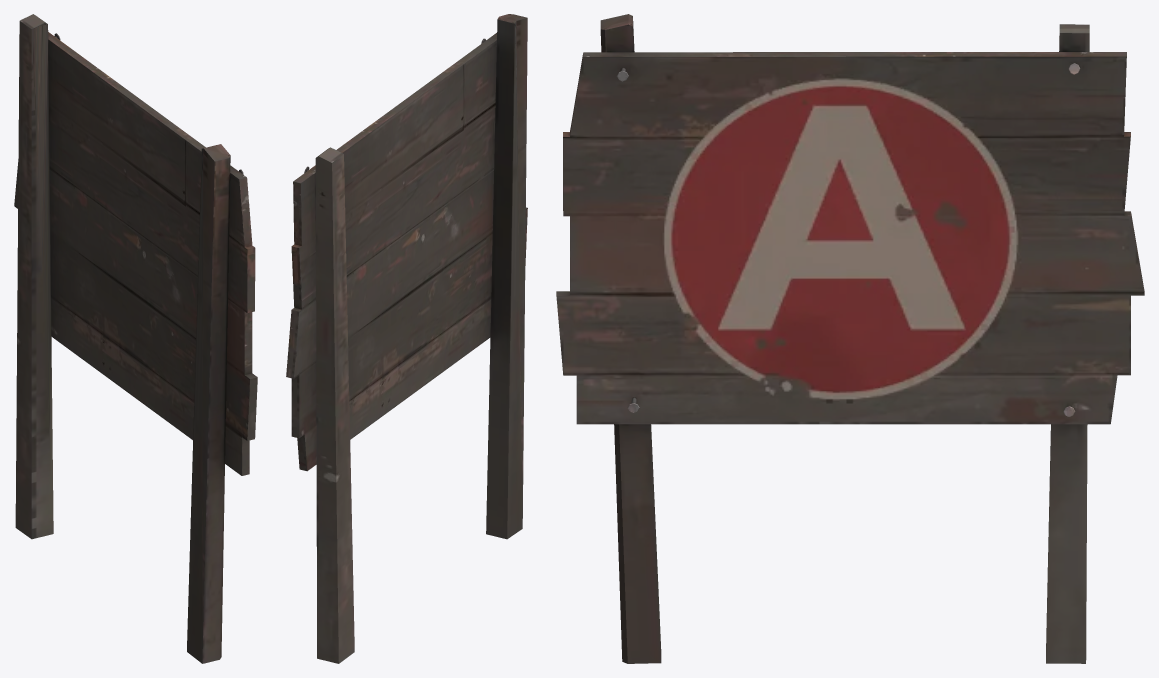
3 views of the same model, side by side, from view 1: azimuth 30°, elevation 25°; view 2: azimuth 150°, elevation 25°; view 3: azimuth 270°, elevation 25° (orthographic). The views are drawn at different scales.
Parts seen in each view (by area): view 1: body0_model0_lod0_mesh0; view 2: body0_model0_lod0_mesh0; view 3: body0_model0_lod0_mesh0.
Boxes of the visible parts, x1,y1,x2,y2 form: body0_model0_lod0_mesh0: (14, 14, 257, 663); body0_model0_lod0_mesh0: (286, 14, 527, 663); body0_model0_lod0_mesh0: (556, 14, 1144, 663).
Size of the model in its own units: 11.74 by 143 by 119.
Materials: 1 (1 with a texture image).
